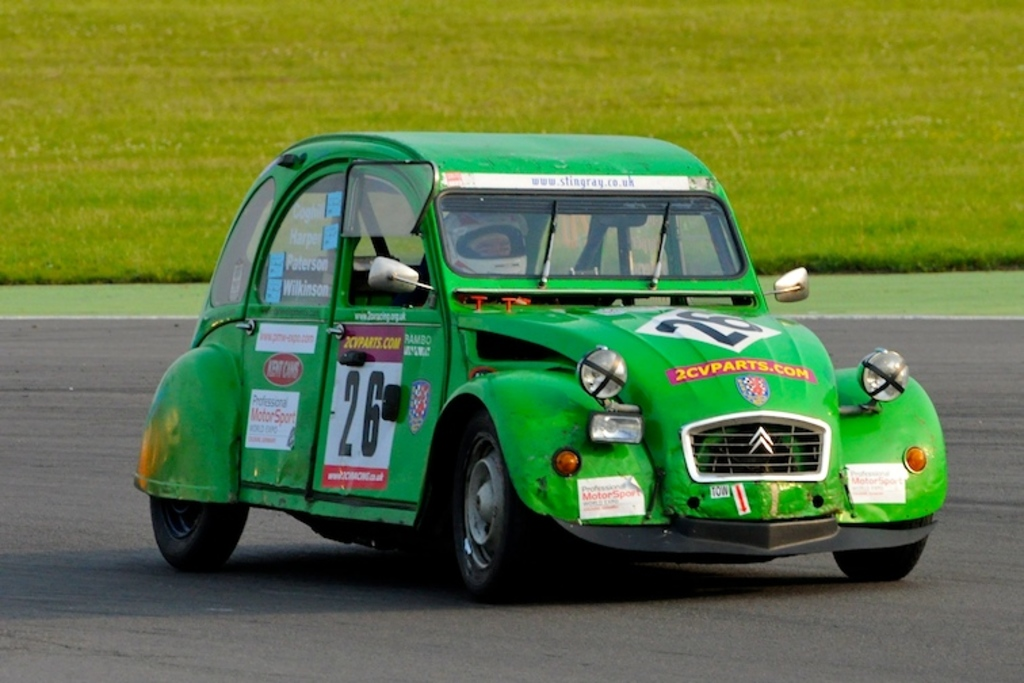Car: (130, 130, 946, 601)
